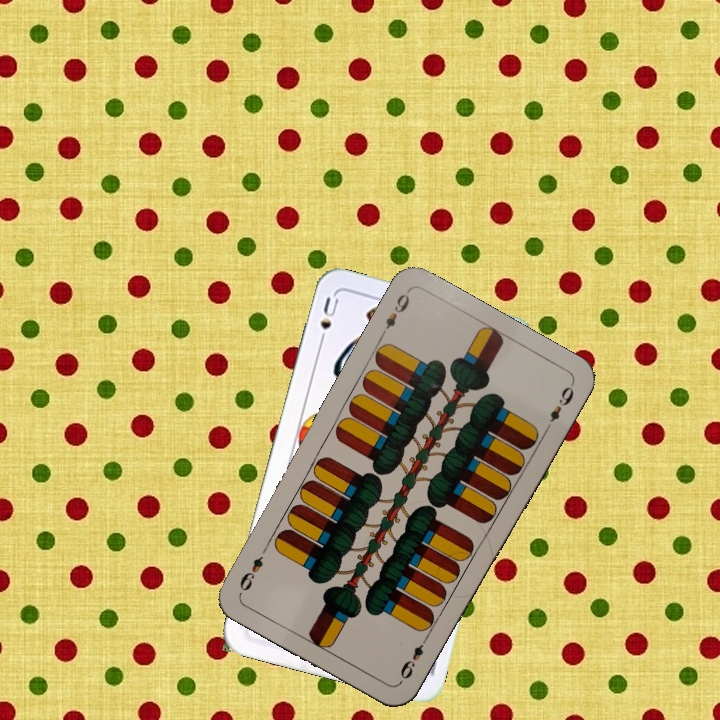E9: (376, 287, 413, 341), (395, 631, 431, 685)
SU: (315, 293, 342, 350)
